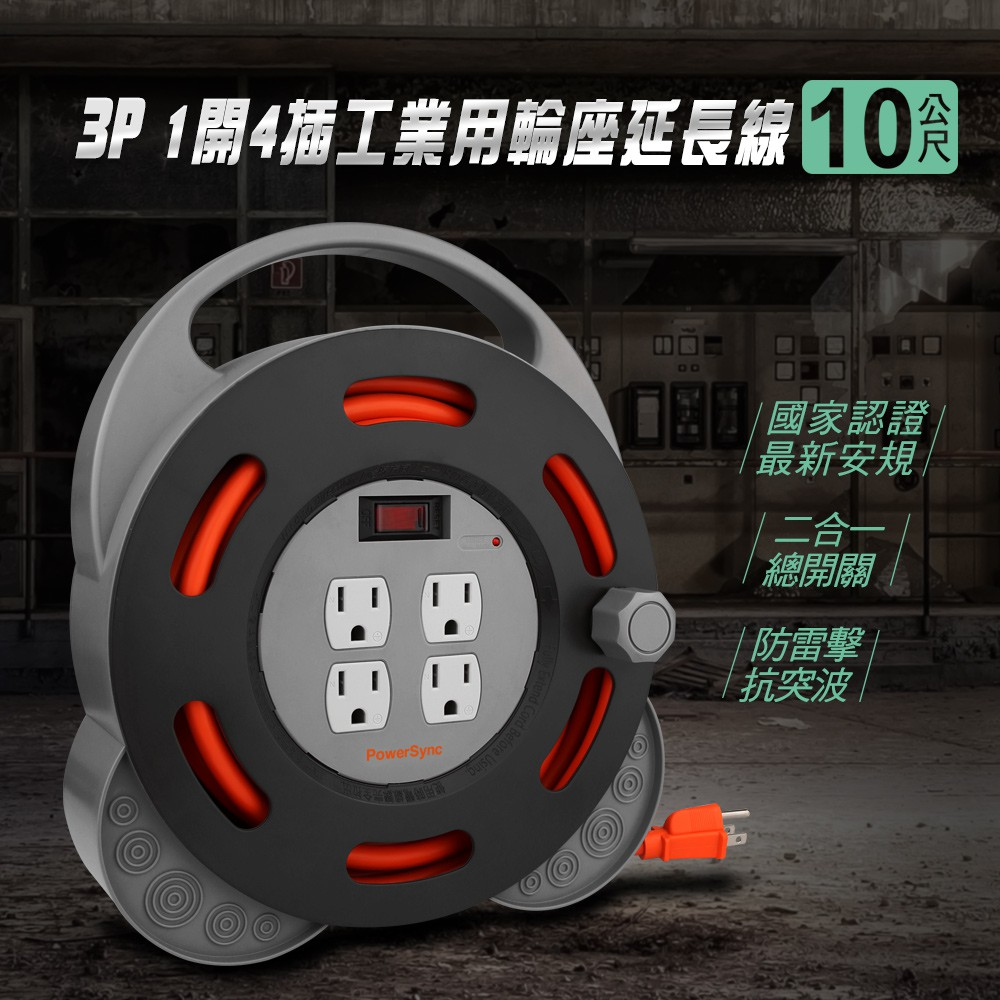socket: (62, 219, 751, 966)
